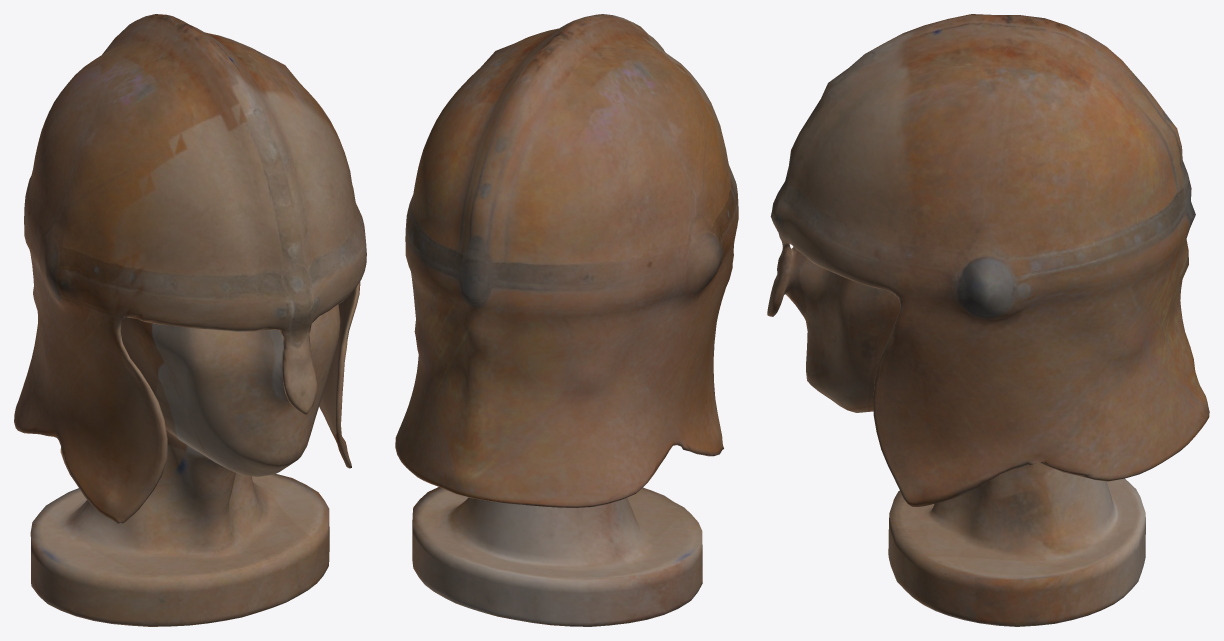
File: Hard Leather Helmet.glb
3 renders of one model, left to right at view 1: azimuth 30°, elevation 25°; view 2: azimuth 150°, elevation 25°; view 3: azimuth 270°, elevation 25°, orthographic. The views are drawn at different scales.
Visible parts, largest first — view 1: file1; view 2: file1; view 3: file1.
Boxes of the visible parts, box(x1,y1,x2,y2) form: file1: box(14, 14, 366, 626); file1: box(395, 14, 738, 626); file1: box(767, 14, 1209, 626).
Bounding box in the file's own units: 1.13 × 1.99 × 1.46.
1 material, 1 textured.
